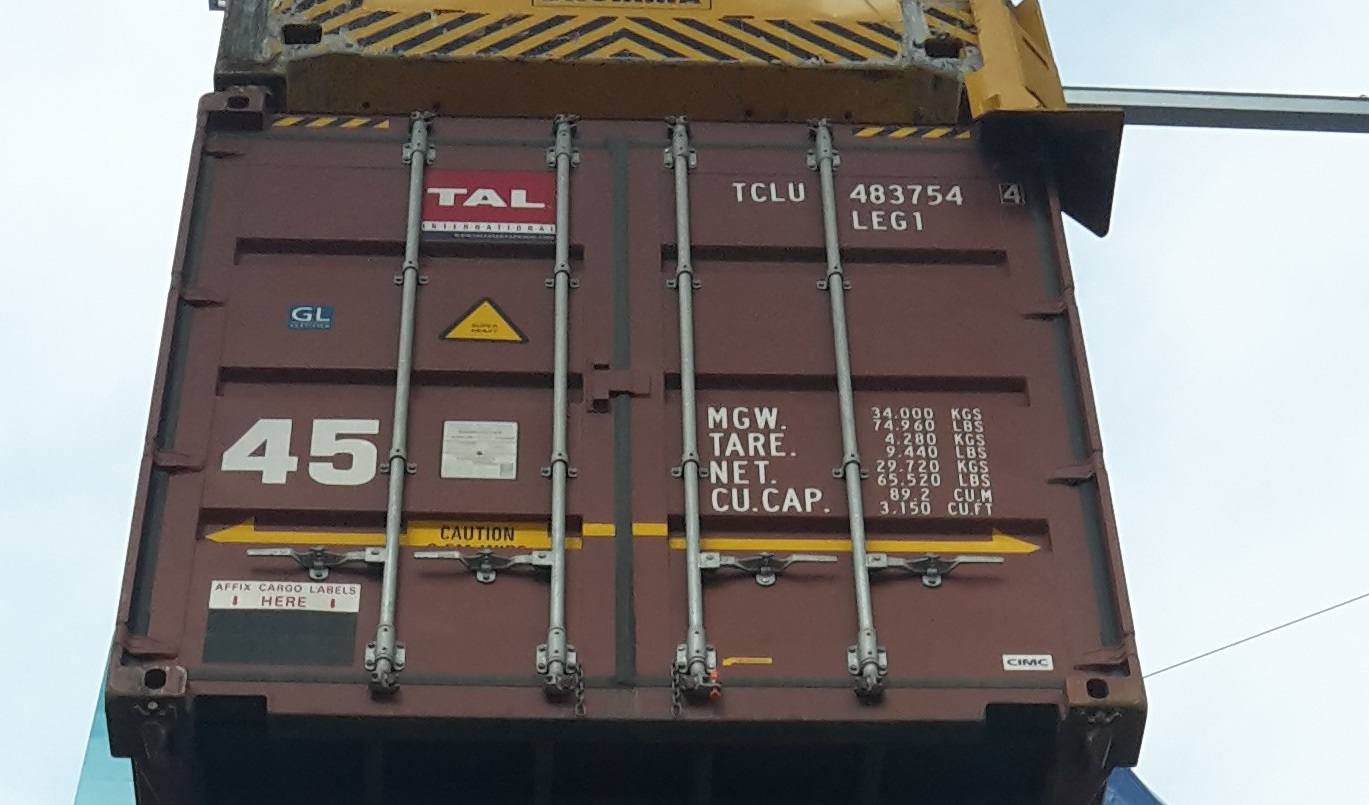container_door: (100, 112, 1152, 723)
